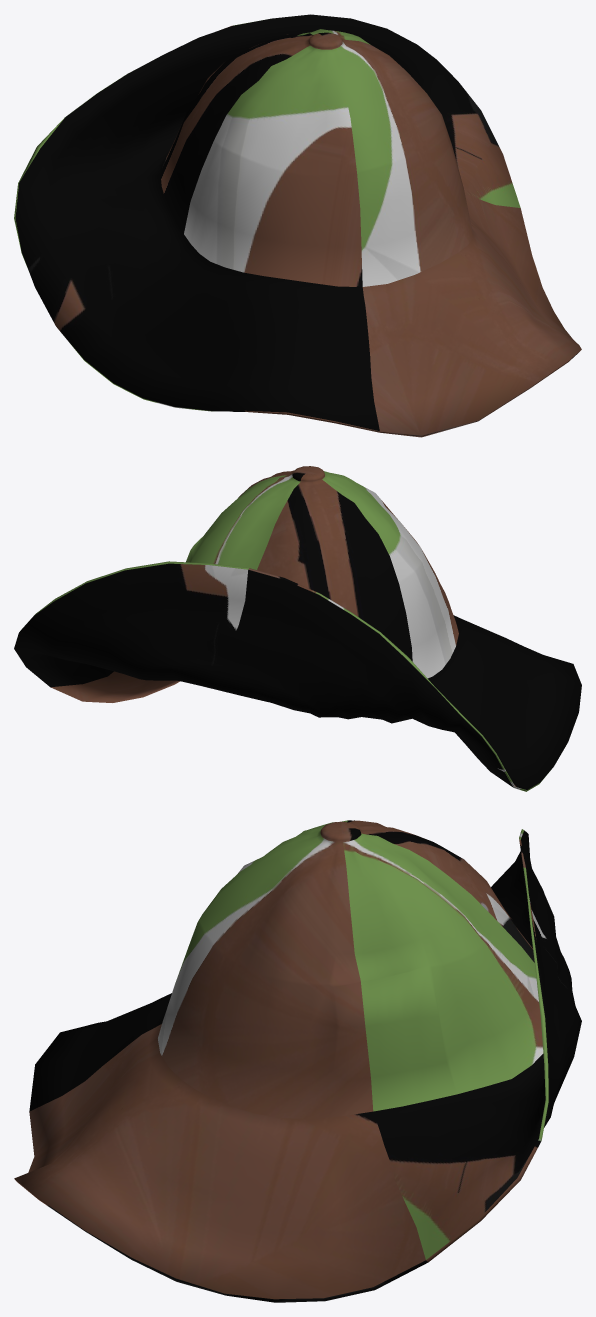
The model's file is seamanHat.gltf.
3 renders of one model, top to bottom at view 1: azimuth 30°, elevation 25°; view 2: azimuth 150°, elevation 25°; view 3: azimuth 270°, elevation 25°, orthographic. The views are drawn at different scales.
Parts seen in each view (by area): view 1: seamanHat; view 2: seamanHat; view 3: seamanHat.
Boxes of the visible parts, left/top/right/bottom form: seamanHat: left=14, top=14, right=581, bottom=437; seamanHat: left=14, top=466, right=581, bottom=791; seamanHat: left=14, top=820, right=581, bottom=1302.
Size of the model in its own units: 2.14 by 1.28 by 1.84.
